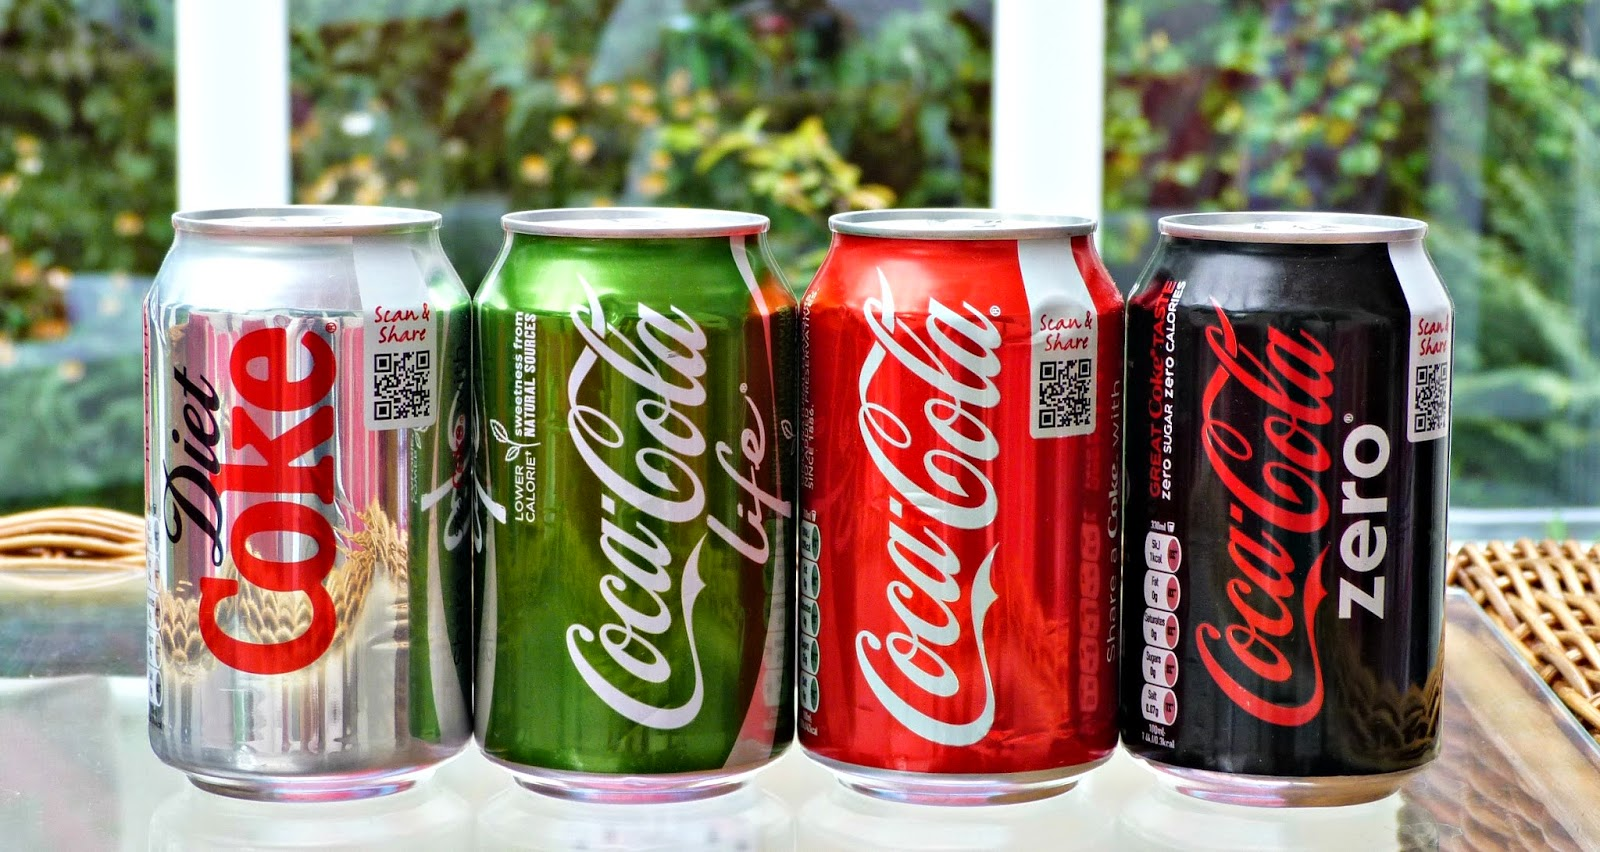coke: (1129, 218, 1450, 788), (479, 212, 788, 772), (810, 206, 1104, 783), (169, 222, 471, 766)
